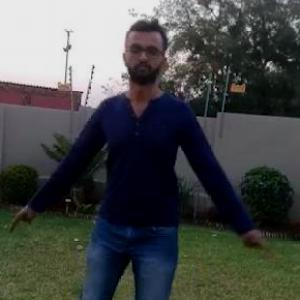land: (10, 42, 278, 299)
